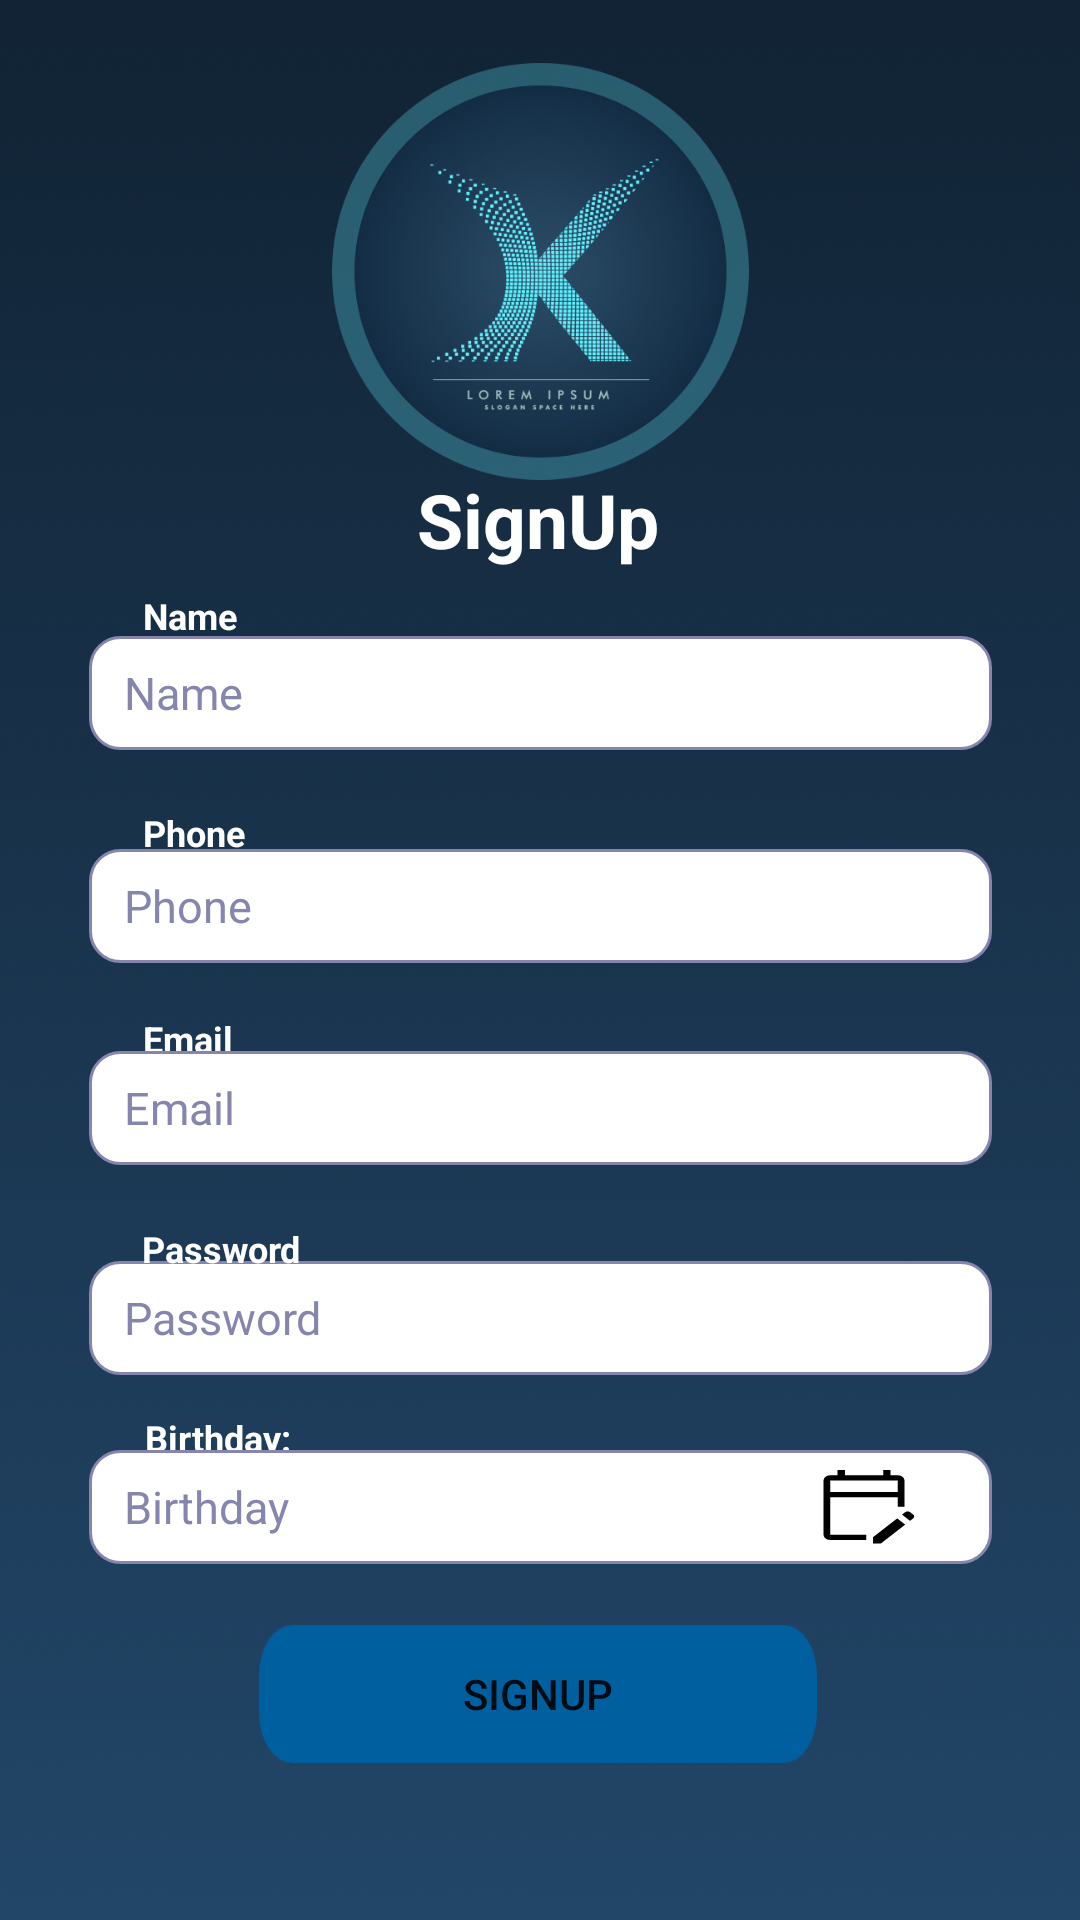

Icons on this 1080 x 1920 Android screen, each with the point to tap as (x=x, y=y):
edit calendar: (x=869, y=1507)
